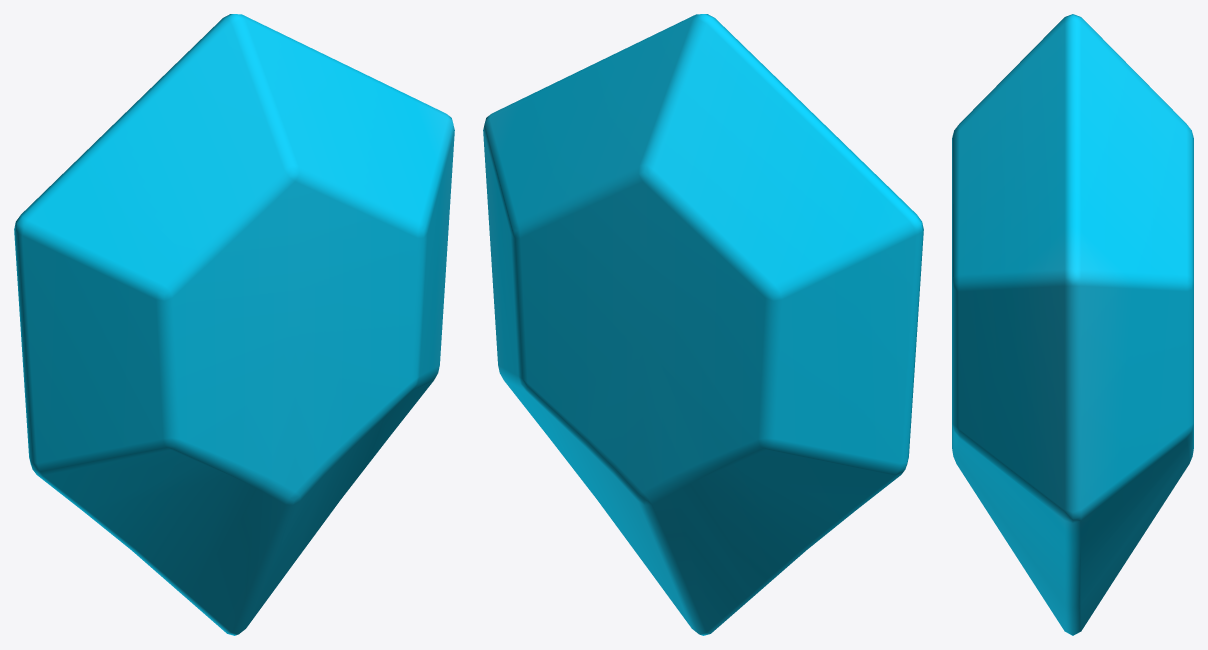
3 renders of one model, left to right at view 1: azimuth 30°, elevation 25°; view 2: azimuth 150°, elevation 25°; view 3: azimuth 270°, elevation 25°, orthographic.
Visible parts, largest first — view 1: model_1.142; view 2: model_1.142; view 3: model_1.142.
Boxes of the visible parts, left/top/right/bottom form: model_1.142: left=14, top=14, right=454, bottom=635; model_1.142: left=483, top=14, right=923, bottom=635; model_1.142: left=952, top=14, right=1193, bottom=635.
Size of the model in its own units: 3.32 by 4.51 by 1.59.
